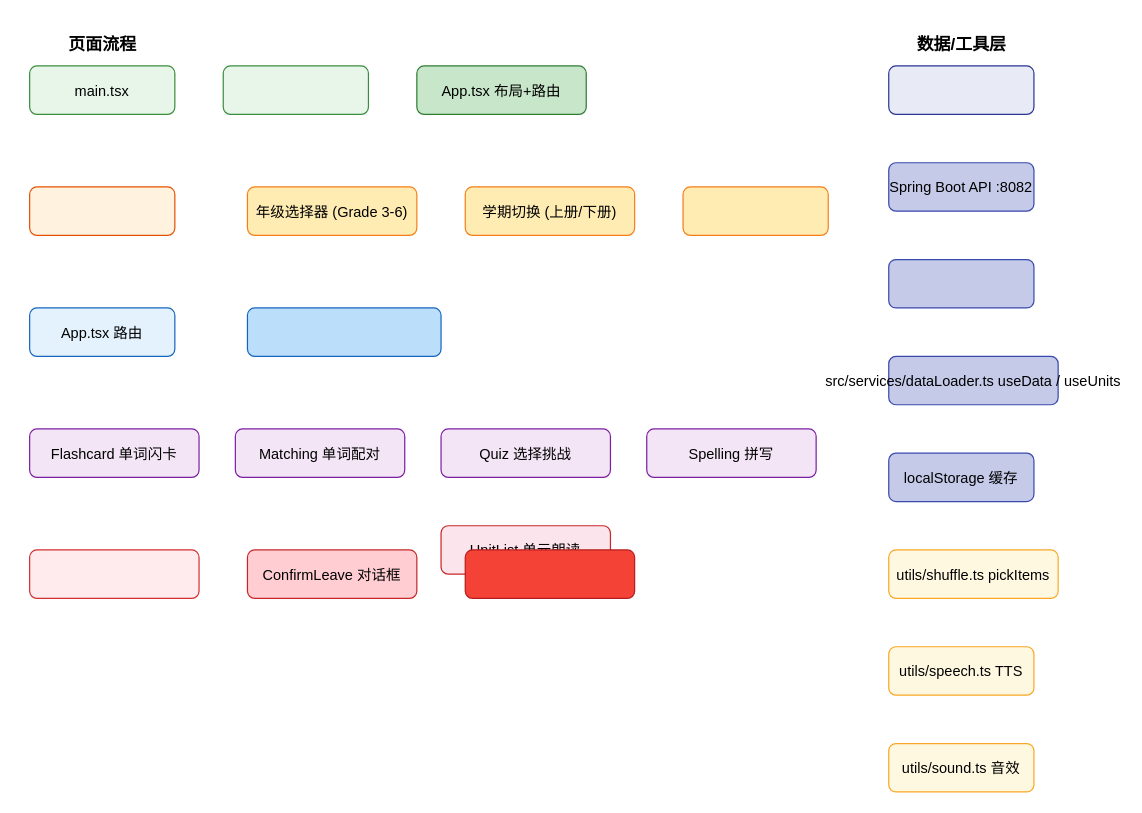
This 1142x813 diagram has some shape labels left out. Each missing label, with the box of its shape:
/play/:grade/:semester: (246, 307, 441, 356)
CapApp.exitApp(): (464, 549, 635, 598)
HashRouter: (222, 65, 368, 114)
Home 首页: (28, 186, 175, 235)
src/services/api.ts: (888, 258, 1034, 308)
数据层: (888, 65, 1034, 114)
游戏模式网格: (682, 186, 828, 235)
返回按钮 / 硬件返回: (28, 549, 199, 598)
